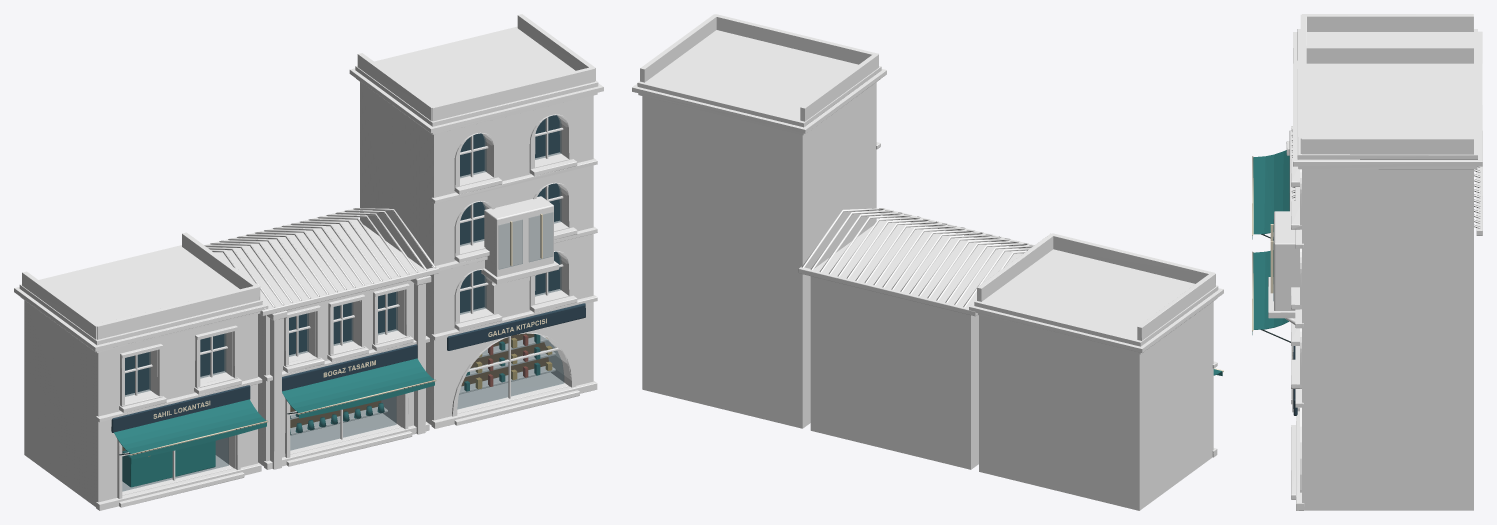
File: DistrictBlock_0_1_LOD1.glb
3 renders of one model, left to right at view 1: azimuth 30°, elevation 25°; view 2: azimuth 150°, elevation 25°; view 3: azimuth 270°, elevation 25°, orthographic. The views are drawn at different scales.
Parts seen in each view (by area): view 1: RK_DistrictBlock_0_1_LOD1_LC_Lime, RK_DistrictBlock_0_1_LOD1_LC_Wood, RK_DistrictBlock_0_1_LOD1_LC_Coral, RK_DistrictBlock_0_1_LOD1_LC_Glass, RK_DistrictBlock_0_1_LOD1_LC_Ink, RK_DistrictBlock_0_1_LOD1_LC_Teal, RK_DistrictBlock_0_1_LOD1_LC_Tile, RK_DistrictBlock_0_1_LOD1_LC_Interior, RK_DistrictBlock_0_1_LOD1_LC_Canvas; view 2: RK_DistrictBlock_0_1_LOD1_LC_Lime, RK_DistrictBlock_0_1_LOD1_LC_Coral, RK_DistrictBlock_0_1_LOD1_LC_Wood, RK_DistrictBlock_0_1_LOD1_LC_Tile; view 3: RK_DistrictBlock_0_1_LOD1_LC_Lime, RK_DistrictBlock_0_1_LOD1_LC_Teal, RK_DistrictBlock_0_1_LOD1_LC_Coral, RK_DistrictBlock_0_1_LOD1_LC_Wood, RK_DistrictBlock_0_1_LOD1_LC_Canvas, RK_DistrictBlock_0_1_LOD1_LC_Tile.
Boxes of the visible parts, x1,y1,x2,y2 form: RK_DistrictBlock_0_1_LOD1_LC_Lime: (14,14,603,510); RK_DistrictBlock_0_1_LOD1_LC_Wood: (122,117,569,495); RK_DistrictBlock_0_1_LOD1_LC_Coral: (22,232,260,506); RK_DistrictBlock_0_1_LOD1_LC_Glass: (122,115,563,491); RK_DistrictBlock_0_1_LOD1_LC_Ink: (111,115,585,432); RK_DistrictBlock_0_1_LOD1_LC_Teal: (114,334,540,487); RK_DistrictBlock_0_1_LOD1_LC_Tile: (204,208,436,309); RK_DistrictBlock_0_1_LOD1_LC_Interior: (122,333,548,450); RK_DistrictBlock_0_1_LOD1_LC_Canvas: (130,213,546,456); RK_DistrictBlock_0_1_LOD1_LC_Lime: (632,14,1223,457); RK_DistrictBlock_0_1_LOD1_LC_Coral: (977,233,1215,510); RK_DistrictBlock_0_1_LOD1_LC_Wood: (798,208,1034,469); RK_DistrictBlock_0_1_LOD1_LC_Tile: (801,208,1033,307); RK_DistrictBlock_0_1_LOD1_LC_Lime: (1268,29,1482,510); RK_DistrictBlock_0_1_LOD1_LC_Teal: (1252,150,1289,334); RK_DistrictBlock_0_1_LOD1_LC_Coral: (1300,14,1473,46); RK_DistrictBlock_0_1_LOD1_LC_Wood: (1274,130,1482,324); RK_DistrictBlock_0_1_LOD1_LC_Canvas: (1252,156,1292,359); RK_DistrictBlock_0_1_LOD1_LC_Tile: (1291,129,1480,228).
Bounding box in the file's own units: 19.09 × 11.47 × 6.44.
